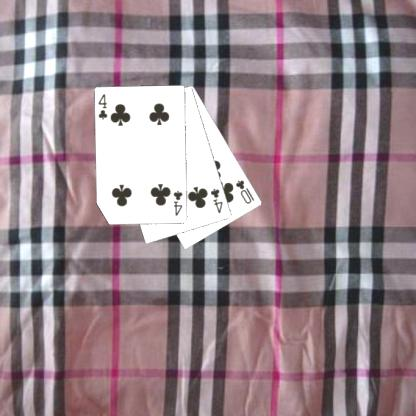10C: (233, 178, 256, 206)
4C: (208, 185, 224, 215), (95, 91, 109, 121), (171, 188, 184, 217)
